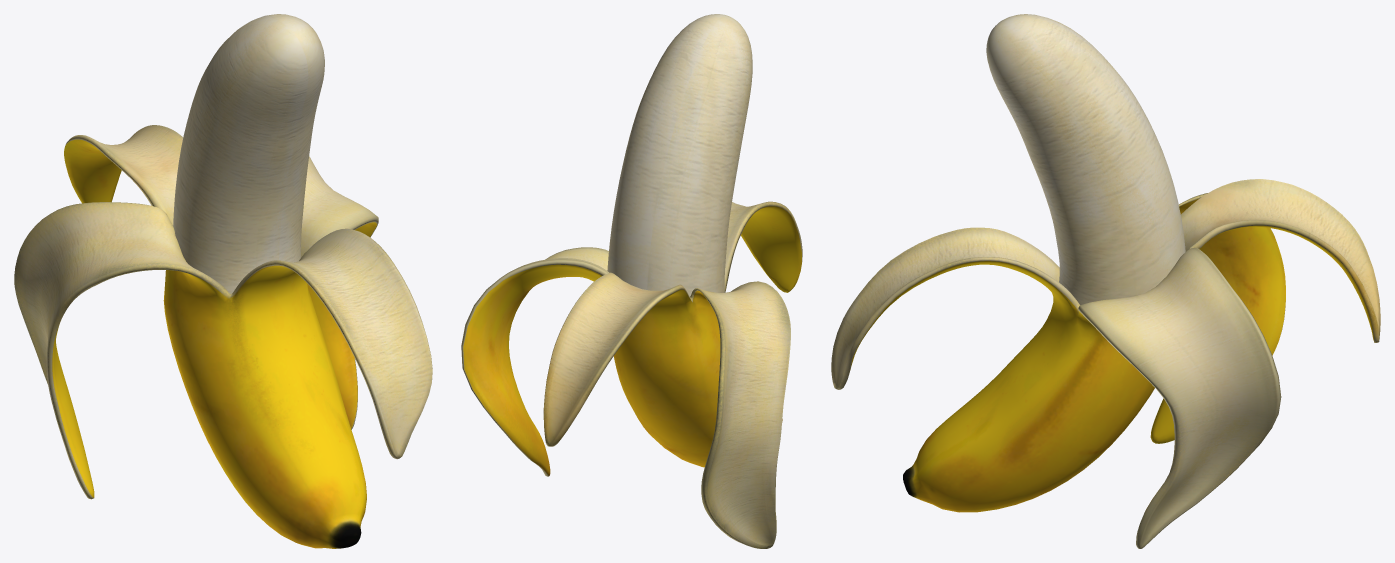
File: Banana.fbx
The picture shows the model from 3 angles, left to right: view 1: azimuth 30°, elevation 25°; view 2: azimuth 150°, elevation 25°; view 3: azimuth 270°, elevation 25°; orthographic projection. The views are drawn at different scales.
Parts seen in each view (by area): view 1: node_id30; view 2: node_id30; view 3: node_id30.
Part boxes in pixels (x1,y1,x2,y2): node_id30: [14, 14, 432, 548]; node_id30: [461, 14, 802, 548]; node_id30: [831, 14, 1380, 548].
Bounding box in the file's own units: 0.3312 × 0.512 × 0.5222.
1 material, 1 textured.
